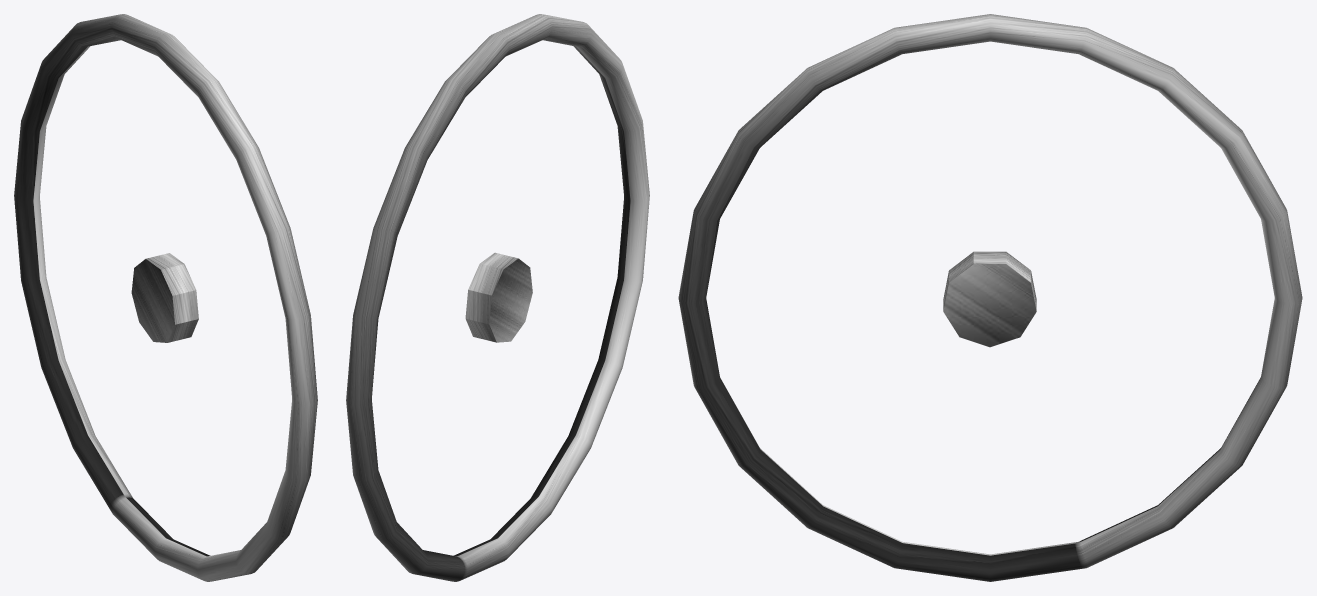
The model's file is BikeSmallwheel.fbx.
3 views of the same model, side by side, from view 1: azimuth 30°, elevation 25°; view 2: azimuth 150°, elevation 25°; view 3: azimuth 270°, elevation 25° (orthographic). The views are drawn at different scales.
Visible parts, largest first — view 1: pTorus1, pCylinder1; view 2: pTorus1, pCylinder1; view 3: pTorus1, pCylinder1.
Boxes of the visible parts, x1=… form: pTorus1: x1=14, y1=14, x2=317, y2=581; pCylinder1: x1=131, y1=253, x2=198, y2=342; pTorus1: x1=346, y1=14, x2=649, y2=581; pCylinder1: x1=465, y1=252, x2=532, y2=342; pTorus1: x1=678, y1=14, x2=1302, y2=581; pCylinder1: x1=943, y1=251, x2=1036, y2=347.
Size of the model in its own units: 0.1956 by 4.09 by 4.09.
